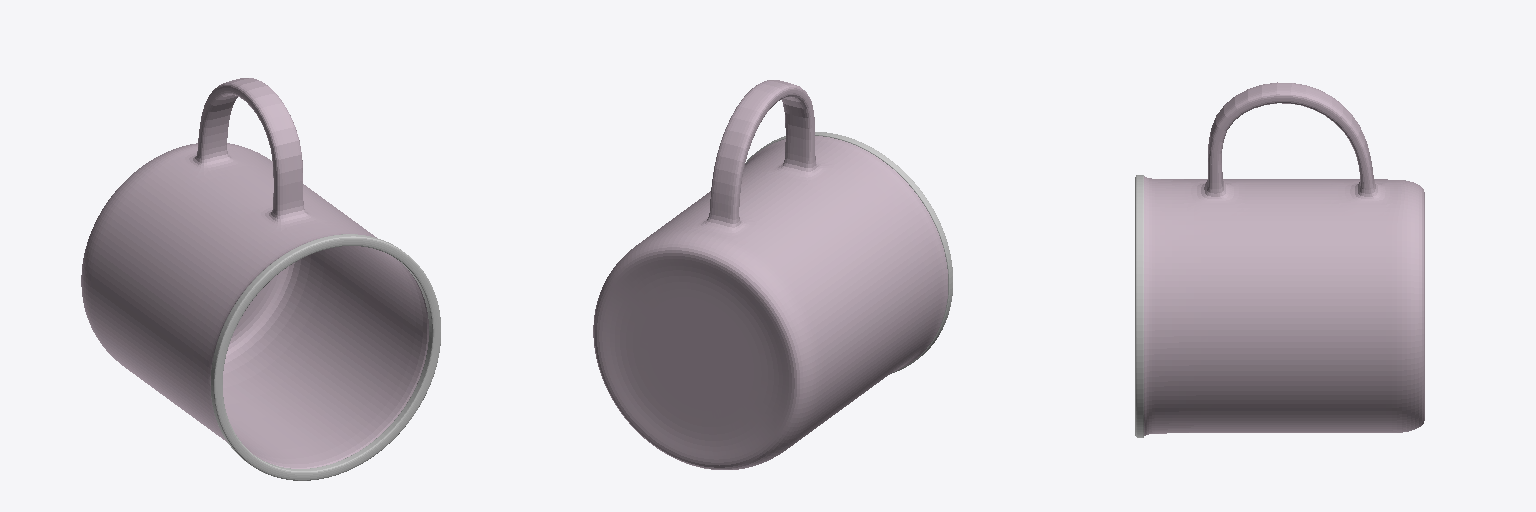
3 views of the same model, side by side, from view 1: azimuth 30°, elevation 25°; view 2: azimuth 150°, elevation 25°; view 3: azimuth 270°, elevation 25° (orthographic).
Parts seen in each view (by area): view 1: Tasse, Ring; view 2: Tasse, Ring; view 3: Tasse, Ring.
Part boxes in pixels (x1,y1,x2,y2): Tasse: (81,78,428,468); Ring: (211,234,440,480); Tasse: (593,80,947,469); Ring: (745,132,952,373); Tasse: (1144,82,1424,435); Ring: (1135,175,1143,437).
Size of the model in its own units: 0.0936 by 0.1332 by 0.1032.